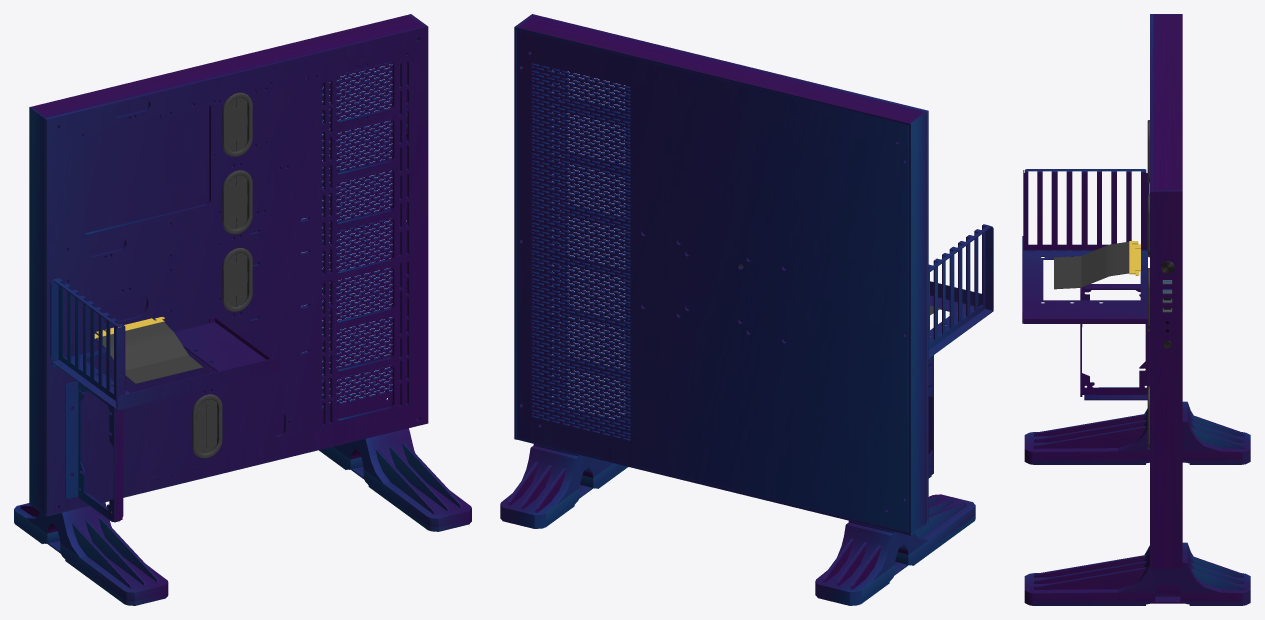
File: MainCase.glb
3 views of the same model, side by side, from view 1: azimuth 30°, elevation 25°; view 2: azimuth 150°, elevation 25°; view 3: azimuth 270°, elevation 25° (orthographic). The views are drawn at different scales.
Visible parts, largest first — view 1: pCube884, BackPanel, Foot1, Foot, pCube889, GPU_Bracket1, pCube890, pCube1235, PSU_Bracket1, nurbsToPoly2, pCylinder100, pCylinder97 (+2 smaller); view 2: BackPanel, pCube889, Foot1, pCube890, Foot, pCube884, pCube1235, GPU_Bracket1, pCube896, pCube891, PSU_Bracket1; view 3: pCube896, Foot, Foot1, pCube890, pCube1235, GPU_Bracket1, nurbsToPoly2, pCube884, PSU_Bracket1, pCube1238.
Boxes of the visible parts, <box> form: pCube884: <box>44,25,428,516</box>; BackPanel: <box>55,61,407,442</box>; Foot1: <box>14,502,168,605</box>; Foot: <box>319,428,471,531</box>; pCube889: <box>29,106,46,514</box>; GPU_Bracket1: <box>52,317,280,410</box>; pCube890: <box>32,14,423,117</box>; pCube1235: <box>50,278,125,407</box>; PSU_Bracket1: <box>65,381,123,522</box>; nurbsToPoly2: <box>96,321,203,383</box>; pCylinder100: <box>192,394,222,458</box>; pCylinder97: <box>222,170,252,234</box>; BackPanel: <box>517,30,908,532</box>; pCube889: <box>908,111,926,535</box>; Foot1: <box>815,494,975,605</box>; pCube890: <box>516,16,924,125</box>; Foot: <box>500,417,627,528</box>; pCube884: <box>531,14,928,523</box>; pCube1235: <box>928,224,993,349</box>; GPU_Bracket1: <box>928,281,993,358</box>; pCube896: <box>514,15,531,439</box>; pCube891: <box>516,437,908,534</box>; PSU_Bracket1: <box>928,355,933,478</box>; pCube896: <box>1153,190,1182,569</box>; Foot: <box>1024,542,1250,605</box>; Foot1: <box>1024,401,1250,464</box>; pCube890: <box>1153,15,1182,190</box>; pCube1235: <box>1023,169,1149,250</box>; GPU_Bracket1: <box>1022,236,1147,328</box>; nurbsToPoly2: <box>1054,241,1129,289</box>; pCube884: <box>1150,14,1153,569</box>; PSU_Bracket1: <box>1080,284,1149,400</box>; pCube1238: <box>1129,241,1140,275</box>.
Bounding box in the file's own units: 0.1715 × 0.1902 × 0.093.
11 materials, 4 textured.
